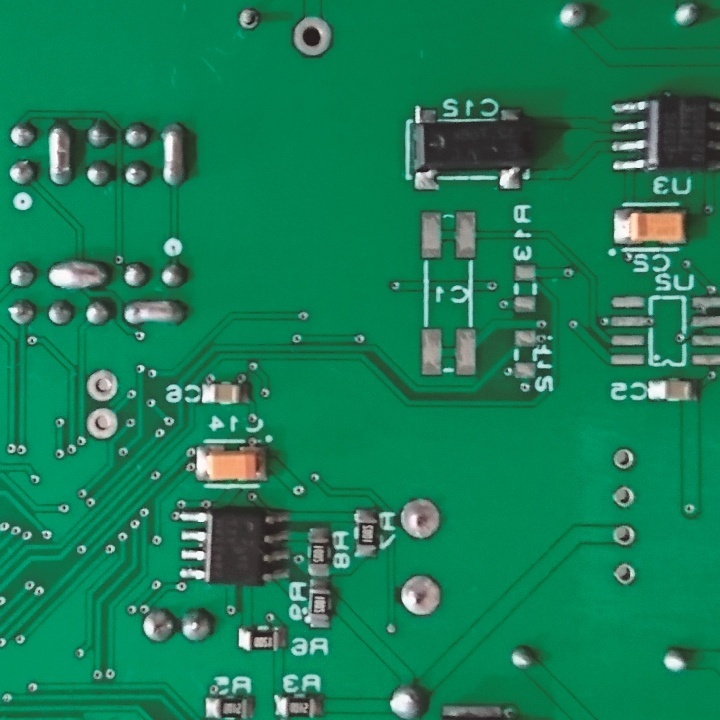F: (396, 495, 445, 542), (398, 572, 444, 618), (289, 16, 336, 59), (85, 367, 121, 404), (84, 407, 119, 441), (611, 559, 639, 589), (611, 521, 638, 549), (610, 445, 636, 472), (235, 7, 262, 32), (612, 483, 636, 509)
P: (47, 257, 110, 293), (120, 296, 188, 328), (44, 118, 74, 189), (159, 120, 189, 189)
